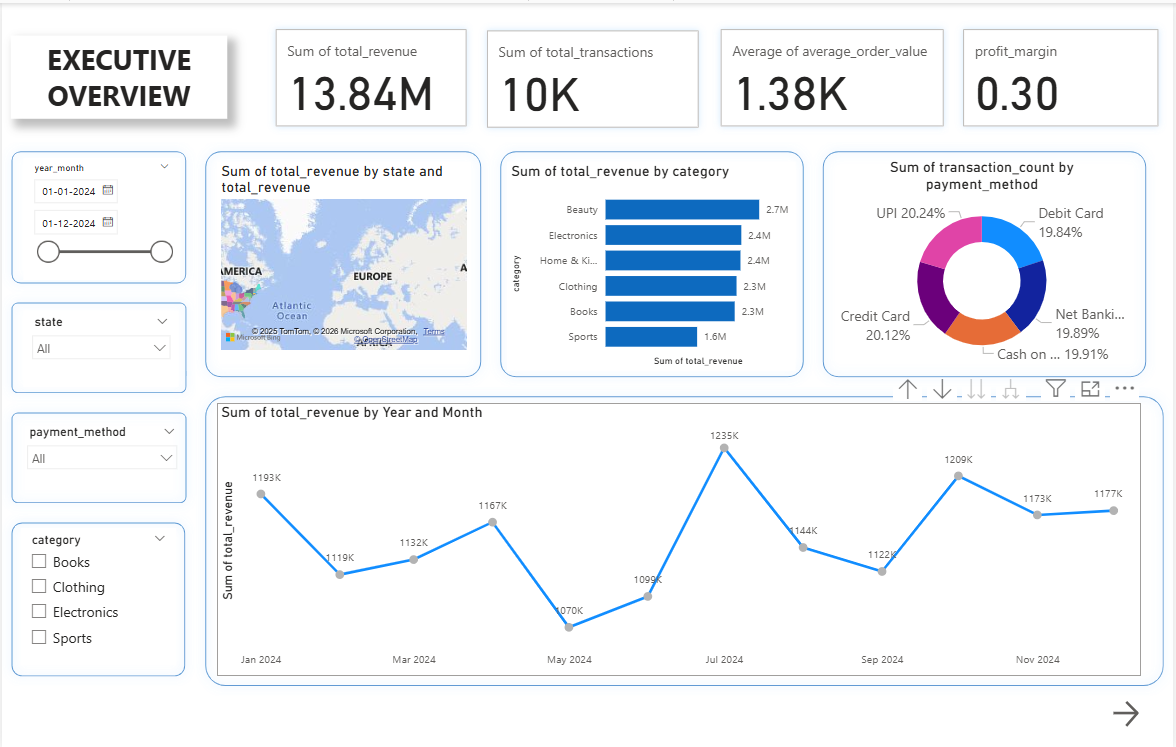

This screenshot's page, from the dashboard's own definition file:
{"tool":"powerbi","page":{"name":"EXECUTIVE OVERVIEW","canvas":[1350,860],"ordinal":0},"visuals":[{"type":"shape","box":[383.5,461.1,223.7,126.3],"z":0},{"type":"shape","box":[0,587.4,222.2,199.3],"z":1000},{"type":"shape","box":[0,334.8,223.7,126.3],"z":2000},{"type":"shape","box":[223.4,442.4,1126.9,355.9],"z":3000},{"type":"shape","box":[563.4,160,371.8,282.4],"z":4000},{"type":"cardVisual","fields":{"Data":["Sum(query2.total_revenue)"]},"box":[299.8,14.7,252.6,144.6],"z":5000},{"type":"cardVisual","fields":{"Data":["Sum(query2.total_transactions)"]},"box":[543.7,15.2,276.9,144.6],"z":6000},{"type":"cardVisual","fields":{"Data":["Avg(query2.average_order_value)"]},"box":[812.1,13.7,289.1,144.6],"z":7000},{"type":"cardVisual","fields":{"Data":["query2.profit_margin"]},"box":[1092.6,14.2,257.2,144.6],"z":8000},{"type":"lineChart","fields":{"Category":["query2.year_month.Variation.Date Hierarchy.Year","query2.year_month.Variation.Date Hierarchy.Month"],"Y":["Sum(query2.total_revenue)"]},"box":[247.9,461.1,1064.9,314.1],"z":9000},{"type":"clusteredBarChart","fields":{"Category":["query4.category"],"Y":["Sum(query4.total_revenue)"]},"box":[582.2,183,332.9,240.7],"z":10000},{"type":"donutChart","fields":{"Category":["query5.payment_method"],"Y":["Sum(query5.transaction_count)"]},"box":[956.8,178.7,345.8,245],"z":11000},{"type":"shape","box":[223.4,160,340.1,282.4],"z":12000},{"type":"filledMap","fields":{"Category":["query6.state"],"Series":["query6.total_revenue"]},"box":[247.9,183,292.5,221.9],"z":13000},{"type":"shape","box":[935.2,160,394.8,282.4],"z":14000},{"type":"textbox","box":[10.7,38,249.6,95.9],"z":15000},{"type":"actionButton","box":[1275.2,800.4,54.8,39.6],"z":16000},{"type":"shape","box":[0,160,223.4,174.4],"z":17000},{"type":"slicer","fields":{"Values":["query2.year_month"]},"box":[24.5,178.7,180.1,139.8],"z":18000},{"type":"slicer","fields":{"Values":["query6.state"]},"box":[24.3,354.5,179.6,88.3],"z":19000},{"type":"slicer","fields":{"Values":["query8.category"]},"box":[21.3,605.6,179.6,158.3],"z":20000},{"type":"slicer","fields":{"Values":["query5.payment_method"]},"box":[18.3,480.8,193.3,88.3],"z":21000},{"type":"shape","box":[0,461.1,223.7,126.3],"z":21001}]}

Visuals, with their boxes in screenshot pixels (x1, y1, x2, y2), scaled from the page's 1350x860 canvas onto the 1176x747 screenshot:
shape: box(334, 401, 529, 510)
shape: box(0, 510, 194, 683)
shape: box(0, 291, 195, 401)
shape: box(195, 384, 1175, 693)
shape: box(491, 139, 815, 384)
cardVisual - Sum(query2.total_revenue): box(261, 13, 481, 138)
cardVisual - Sum(query2.total_transactions): box(474, 13, 715, 139)
cardVisual - Avg(query2.average_order_value): box(707, 12, 959, 138)
cardVisual - query2.profit_margin: box(952, 12, 1175, 138)
lineChart - query2.year_month.Variation.Date Hierarchy.Year x query2.year_month.Variation.Date Hierarchy.Month: box(216, 401, 1144, 673)
clusteredBarChart - query4.category x Sum(query4.total_revenue): box(507, 159, 797, 368)
donutChart - query5.payment_method x Sum(query5.transaction_count): box(833, 155, 1135, 368)
shape: box(195, 139, 491, 384)
filledMap - query6.state x query6.total_revenue: box(216, 159, 471, 352)
shape: box(815, 139, 1159, 384)
textbox: box(9, 33, 227, 116)
actionButton: box(1111, 695, 1159, 730)
shape: box(0, 139, 195, 290)
slicer - query2.year_month: box(21, 155, 178, 277)
slicer - query6.state: box(21, 308, 178, 385)
slicer - query8.category: box(19, 526, 175, 664)
slicer - query5.payment_method: box(16, 418, 184, 494)
shape: box(0, 401, 195, 510)
